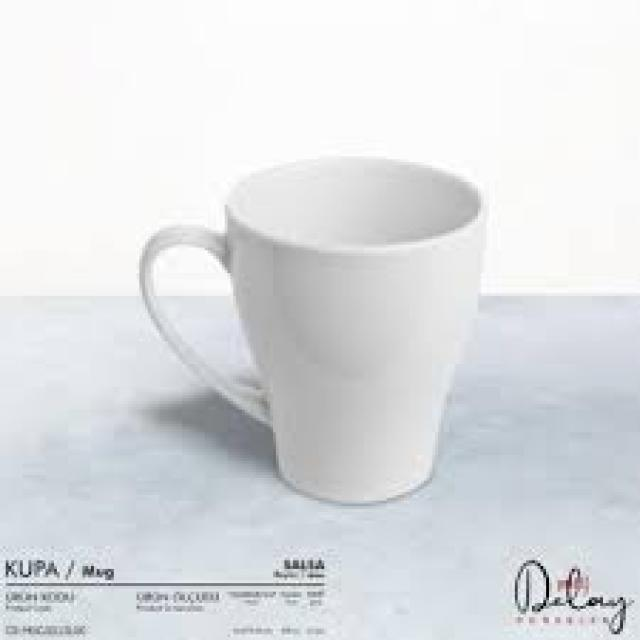taza: (137, 152, 484, 508)
